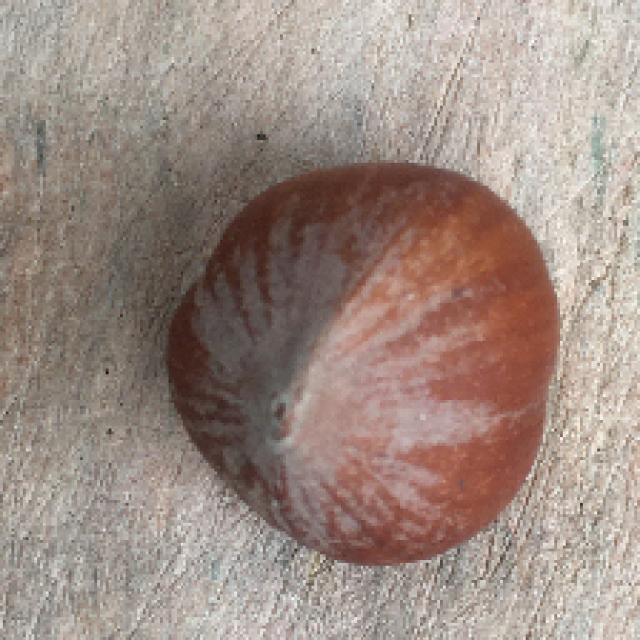qualityHazelnut: (167, 158, 562, 564)
